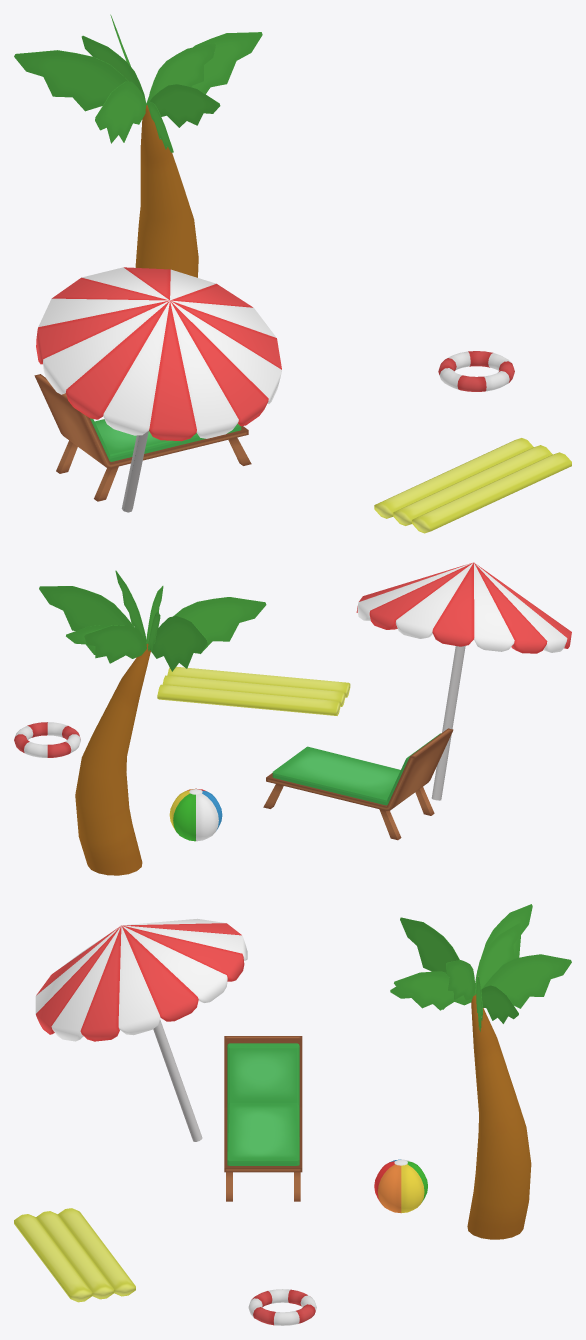
The picture shows the model from 3 angles, top to bottom: view 1: azimuth 30°, elevation 25°; view 2: azimuth 150°, elevation 25°; view 3: azimuth 270°, elevation 25°; orthographic projection. The views are drawn at different scales.
Visible parts, largest first — view 1: Cone, Circle, Cube.002, Cube.007, Torus; view 2: Circle, Cone, Cube.007, Cube.002, Sphere.001, Torus; view 3: Circle, Cone, Cube.007, Cube.002, Sphere.001, Torus.
Boxes of the visible parts, x1,y1,x2,y2 form: Cone: (36, 267, 281, 512); Circle: (14, 14, 262, 277); Cube.002: (374, 438, 571, 533); Cube.007: (34, 374, 251, 501); Torus: (438, 351, 514, 391); Circle: (39, 570, 266, 875); Cone: (356, 562, 571, 800); Cube.007: (263, 728, 453, 840); Cube.002: (157, 666, 350, 715); Sphere.001: (169, 788, 222, 841); Torus: (14, 722, 80, 757); Circle: (390, 904, 571, 1239); Cone: (35, 918, 247, 1141); Cube.007: (224, 1036, 302, 1201); Cube.002: (14, 1208, 135, 1302); Sphere.001: (374, 1159, 427, 1213); Torus: (248, 1289, 316, 1325).
Size of the model in its own units: 5.66 by 3.13 by 5.71.
Materials: 6 (6 with a texture image).
